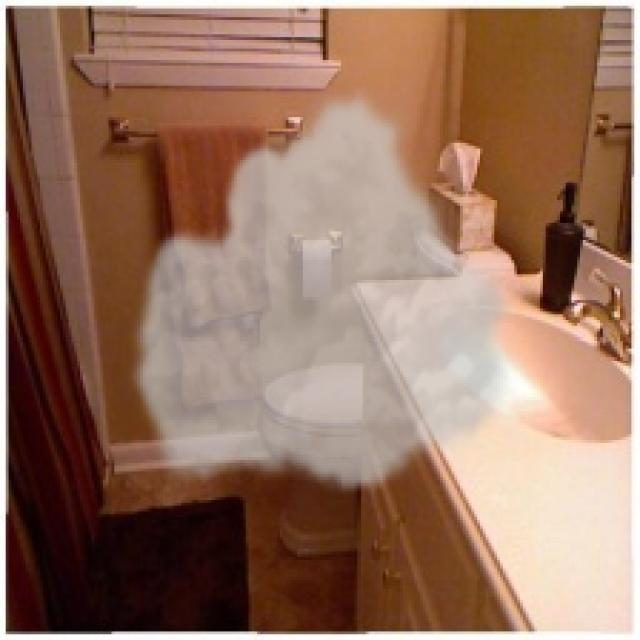smoke: (126, 86, 523, 497)
